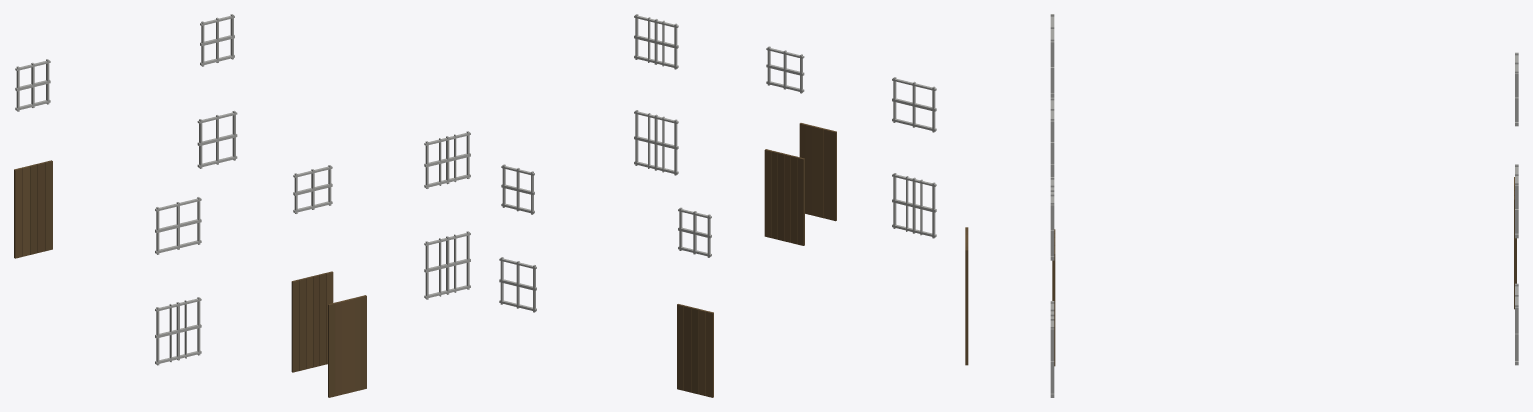
File: SM_Bld_100_Wood.glb
The picture shows the model from 3 angles, left to right: view 1: azimuth 30°, elevation 25°; view 2: azimuth 150°, elevation 25°; view 3: azimuth 270°, elevation 25°; orthographic projection. The views are drawn at different scales.
Visible parts, largest first — view 1: SM_Bld_100_Wood; view 2: SM_Bld_100_Wood; view 3: SM_Bld_100_Wood.
Part boxes in pixels (left/top/right/bottom): SM_Bld_100_Wood: left=14, top=14, right=470, bottom=397; SM_Bld_100_Wood: left=499, top=14, right=936, bottom=397; SM_Bld_100_Wood: left=965, top=14, right=1518, bottom=397.
Bounding box in the file's own units: 7.45 × 4.48 × 9.15.
